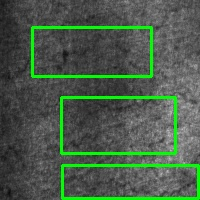crazing: (62, 97, 175, 153), (32, 27, 151, 76), (62, 165, 198, 198)
